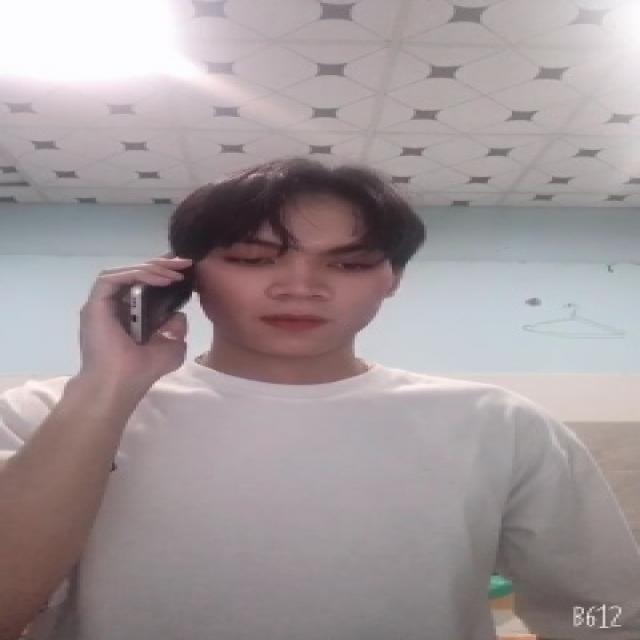Phone: (121, 259, 199, 350)
